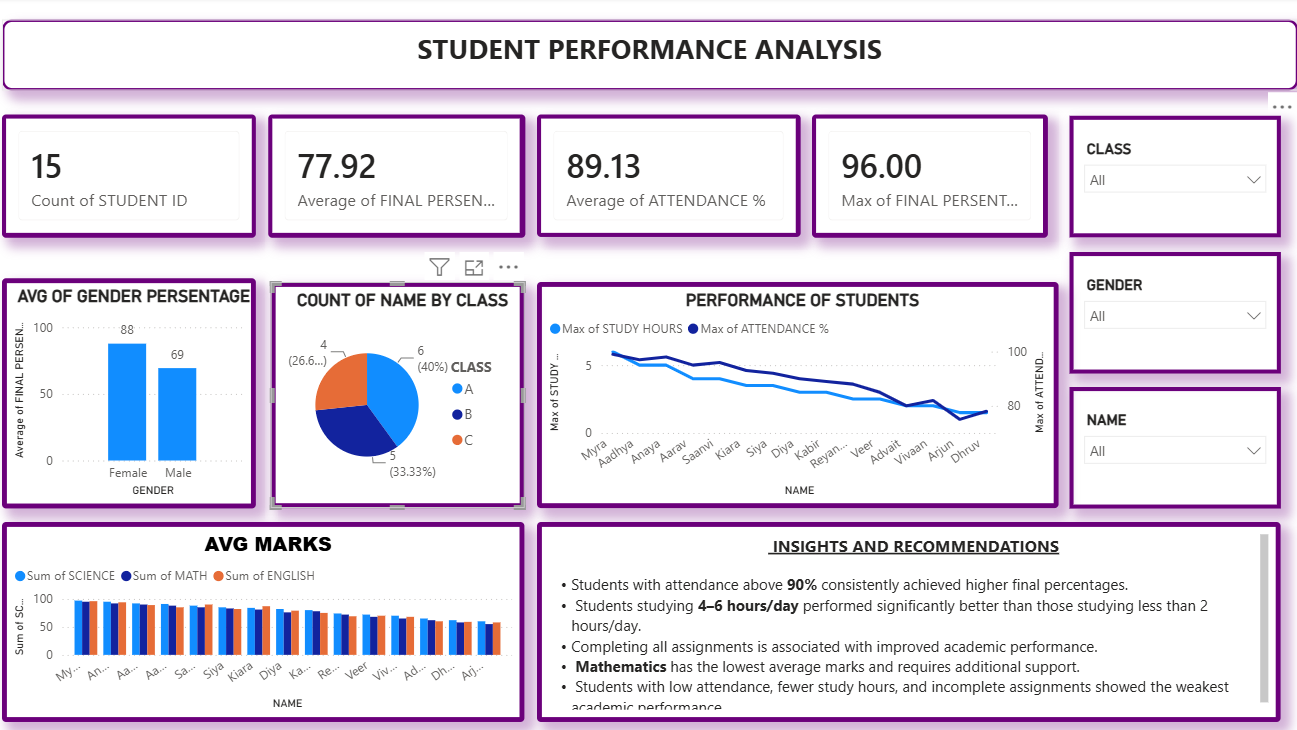

Layout of this report page (visuals, bound fields, positions):
{"tool":"powerbi","page":{"name":"Page 1","canvas":[1280,720],"ordinal":0},"visuals":[{"type":"textbox","box":[9.6,22,1270.7,70],"z":0},{"type":"cardVisual","fields":{"Data":["CountNonNull(Class (Sheet1).STUDENT ID )"]},"box":[9.5,115,249,120.4],"z":1},{"type":"cardVisual","fields":{"Data":["Avg(Class (Sheet1).FINAL  PERSENTAGE)"]},"box":[270.7,115,251.7,120.4],"z":2},{"type":"cardVisual","fields":{"Data":["Avg(Class (Sheet1).ATTENDANCE %)"]},"box":[534.2,115.2,258.5,120.1],"z":3},{"type":"cardVisual","fields":{"Data":["Max(Class (Sheet1).FINAL  PERSENTAGE)"]},"box":[803.9,115,231.4,120.4],"z":4},{"type":"columnChart","title":"AVG OF GENDER PERSENTAGE ","fields":{"Category":["Class (Sheet1).GENDER"],"Y":["Avg(Class (Sheet1).FINAL  PERSENTAGE)"]},"box":[9.8,275.7,248.7,225.4],"z":5},{"type":"pieChart","title":"COUNT OF NAME BY  CLASS","fields":{"Category":["Class (Sheet1).CLASS"],"Y":["CountNonNull(Class (Sheet1).NAME )"]},"box":[273.2,279.3,248.7,221.7],"z":6},{"type":"slicer","fields":{"Values":["Class (Sheet1).CLASS"]},"box":[1055.6,116.4,207.1,119.1],"z":7},{"type":"slicer","fields":{"Values":["Class (Sheet1).NAME "]},"box":[1055.6,381.6,207.1,119.1],"z":9},{"type":"slicer","fields":{"Values":["Class (Sheet1).GENDER"]},"box":[1055.6,250.4,207.1,119.1],"z":10},{"type":"clusteredColumnChart","title":"AVG MARKS ","fields":{"Category":["Class (Sheet1).NAME "],"Y":["Sum(Class (Sheet1).SCIENCE)","Sum(Class (Sheet1).MATH)","Sum(Class (Sheet1).ENGLISH)"]},"box":[9.8,514.5,512.1,196],"z":11},{"type":"lineChart","title":"PERFORMANCE OF STUDENTS","fields":{"Category":["Class (Sheet1).NAME "],"Y":["Max(Class (Sheet1).STUDY HOURS)"],"Y2":["Max(Class (Sheet1).ATTENDANCE %)"]},"box":[534.2,279.3,510.9,221.7],"z":12},{"type":"textbox","box":[534.2,514.5,728.9,196],"z":13}]}

Visuals, with their boxes in screenshot pixels (x1, y1, x2, y2), scaled from the page's 1280x720 canvas onto the 1297x730 screenshot:
textbox: <box>10,22,1296,93</box>
cardVisual - CountNonNull(Class (Sheet1).STUDENT ID ): <box>10,117,262,239</box>
cardVisual - Avg(Class (Sheet1).FINAL  PERSENTAGE): <box>274,117,529,239</box>
cardVisual - Avg(Class (Sheet1).ATTENDANCE %): <box>541,117,803,239</box>
cardVisual - Max(Class (Sheet1).FINAL  PERSENTAGE): <box>815,117,1049,239</box>
"AVG OF GENDER PERSENTAGE " columnChart: <box>10,280,262,508</box>
"COUNT OF NAME BY  CLASS" pieChart: <box>277,283,529,508</box>
slicer - Class (Sheet1).CLASS: <box>1070,118,1279,239</box>
slicer - Class (Sheet1).NAME : <box>1070,387,1279,508</box>
slicer - Class (Sheet1).GENDER: <box>1070,254,1279,375</box>
"AVG MARKS " clusteredColumnChart: <box>10,522,529,720</box>
"PERFORMANCE OF STUDENTS" lineChart: <box>541,283,1059,508</box>
textbox: <box>541,522,1280,720</box>
